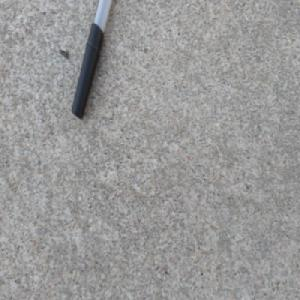Pen: (69, 0, 115, 122)
